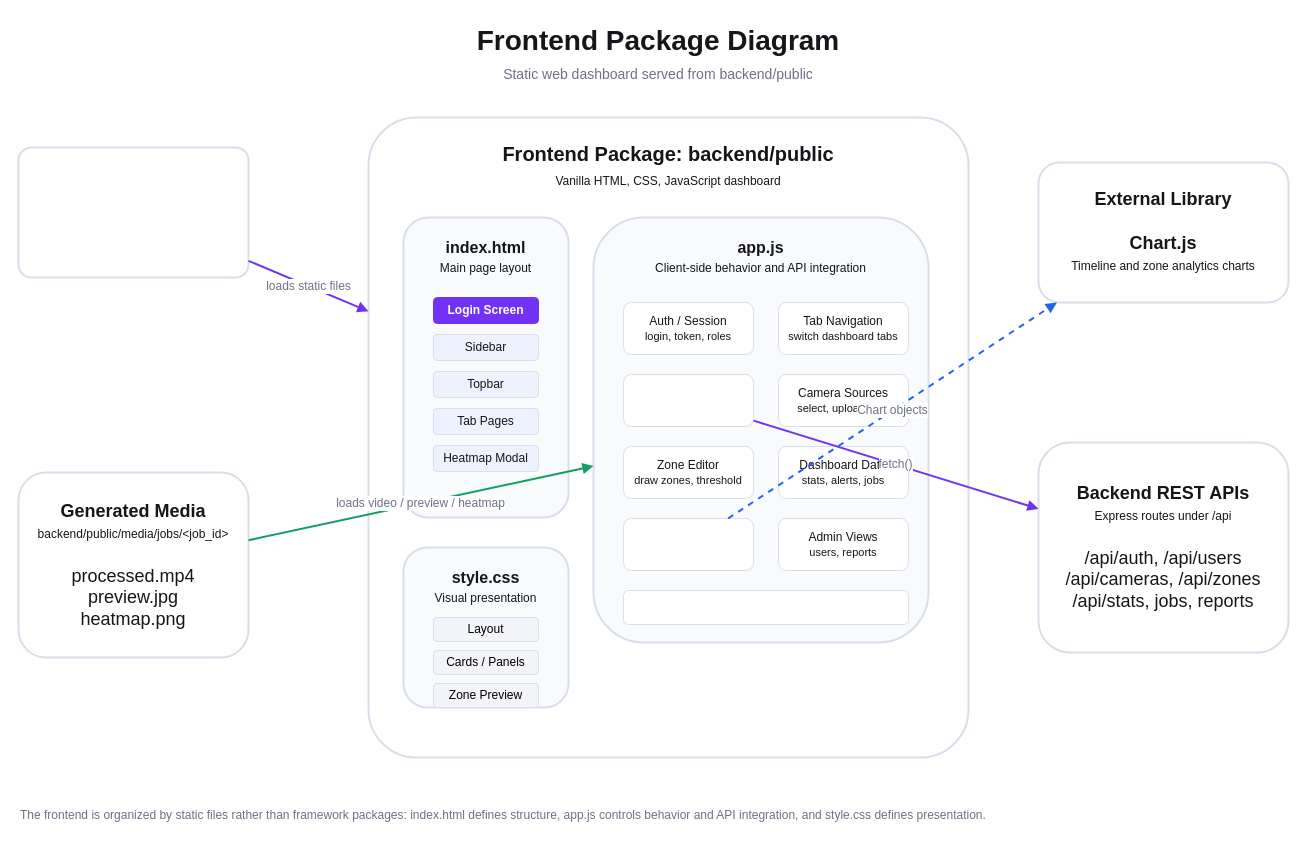
The diagram is 1315 pixels wide and 849 high, and some of its shapes have lost their labels. Each missing label, with the centre of its shape:
"API Fetch Layer REST requests + JWT" belongs at point (688, 400).
"Browser Admin / Analyst / Staff interact with dashboard UI" belongs at point (133, 212).
"Charts timeline, zone counts" belongs at point (688, 544).
"Realtime refresh and media asset loading" belongs at point (765, 607).
